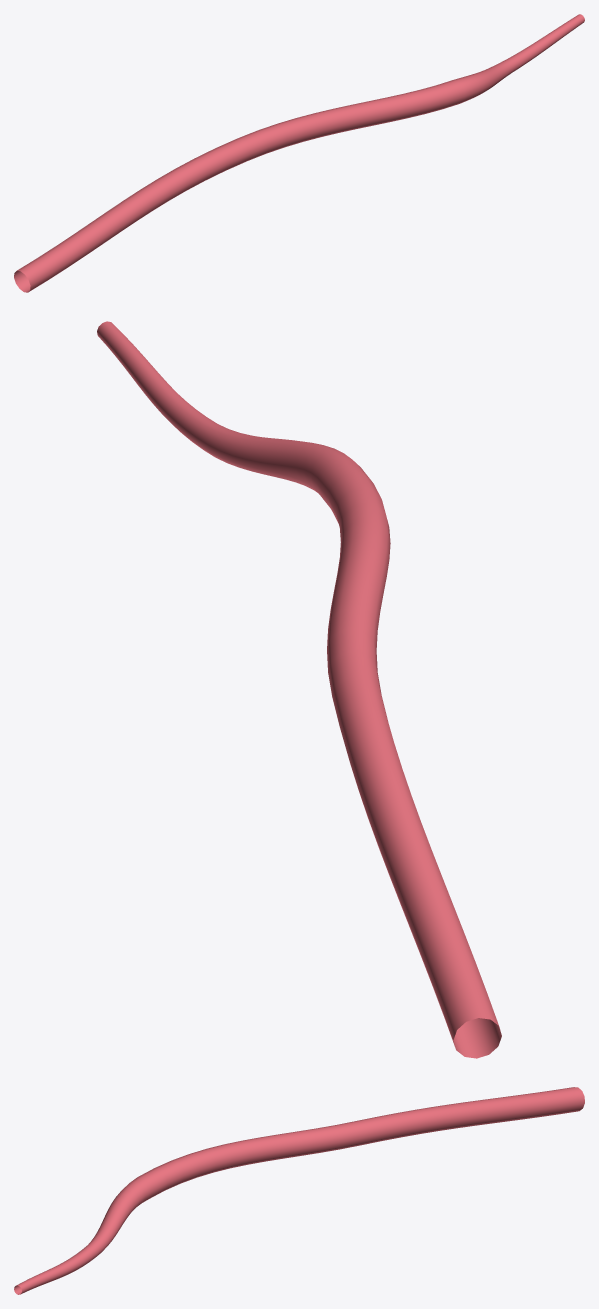
The picture shows the model from 3 angles, top to bottom: view 1: azimuth 90°, elevation 25°; view 2: azimuth 150°, elevation 25°; view 3: azimuth 270°, elevation 25°; orthographic projection. The views are drawn at different scales.
Parts seen in each view (by area): view 1: ZA_9efc585dbdafd725; view 2: ZA_9efc585dbdafd725; view 3: ZA_9efc585dbdafd725.
Boxes of the visible parts, x1,y1,x2,y2 form: ZA_9efc585dbdafd725: [14, 14, 584, 292]; ZA_9efc585dbdafd725: [97, 321, 501, 1058]; ZA_9efc585dbdafd725: [14, 1087, 584, 1294].
Bounding box in the file's own units: 0.0221 × 0.00346 × 0.023.
